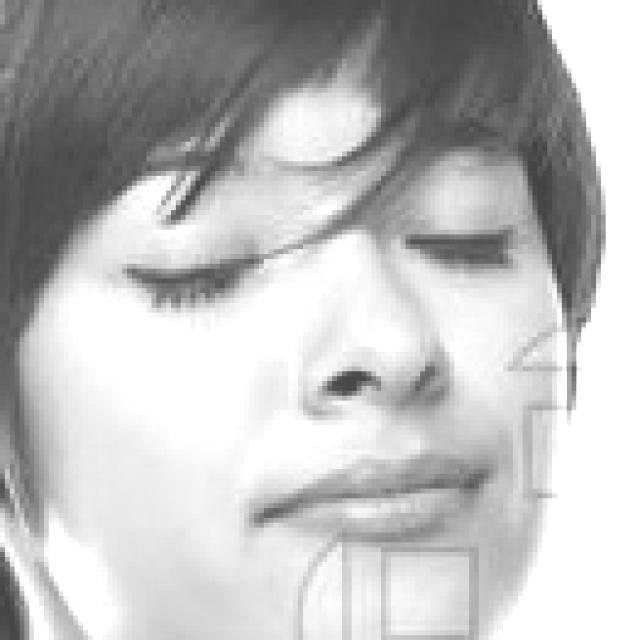real: (23, 20, 567, 640), (110, 200, 533, 324)
